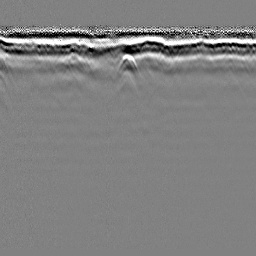cavity: (114, 53, 140, 76)
